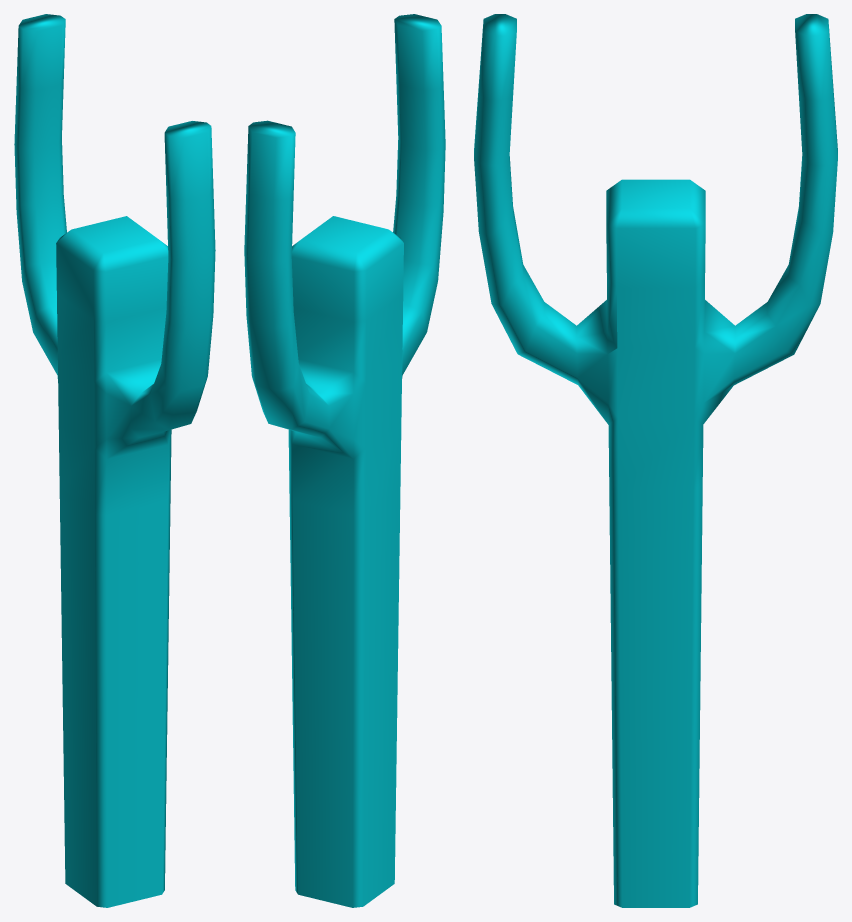
File: Pupazzo_gonfiabile_che_saluta_come_uno_scemo.fbx
3 views of the same model, side by side, from view 1: azimuth 30°, elevation 25°; view 2: azimuth 150°, elevation 25°; view 3: azimuth 270°, elevation 25° (orthographic). The views are drawn at different scales.
Parts seen in each view (by area): view 1: pupazzo_gonfiabile_che_saluta_come_uno_scemo; view 2: pupazzo_gonfiabile_che_saluta_come_uno_scemo; view 3: pupazzo_gonfiabile_che_saluta_come_uno_scemo.
Part boxes in pixels (x1=…): pupazzo_gonfiabile_che_saluta_come_uno_scemo: x1=14, y1=14, x2=215, y2=907; pupazzo_gonfiabile_che_saluta_come_uno_scemo: x1=244, y1=14, x2=445, y2=907; pupazzo_gonfiabile_che_saluta_come_uno_scemo: x1=474, y1=14, x2=837, y2=907.
Bounding box in the file's own units: 57.77 × 555 × 211.
